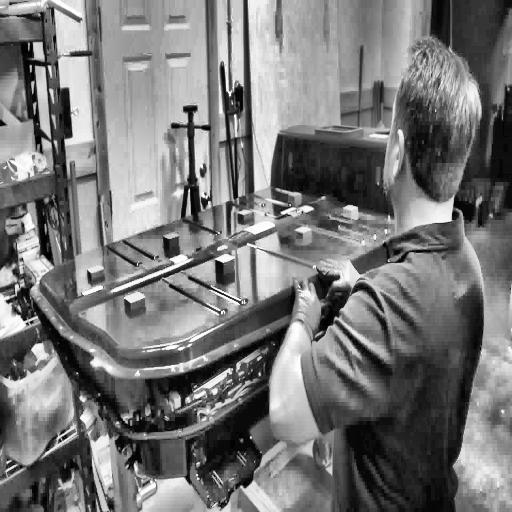b_casing: (30, 128, 446, 512)
